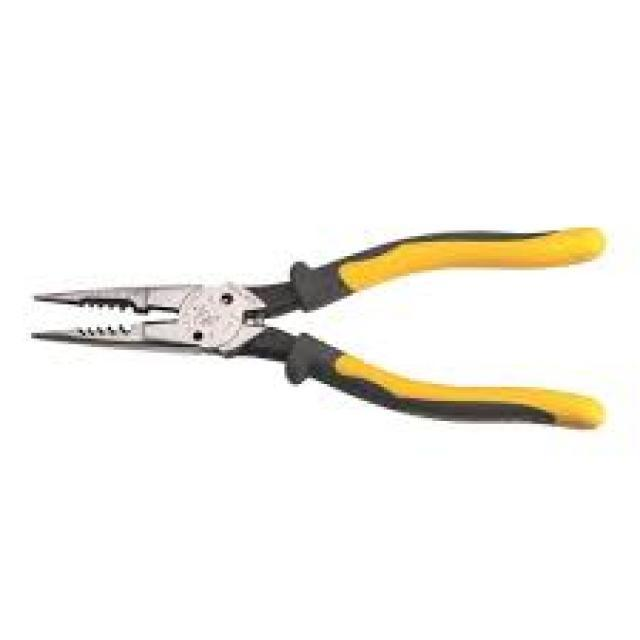pliers: (26, 218, 614, 448)
